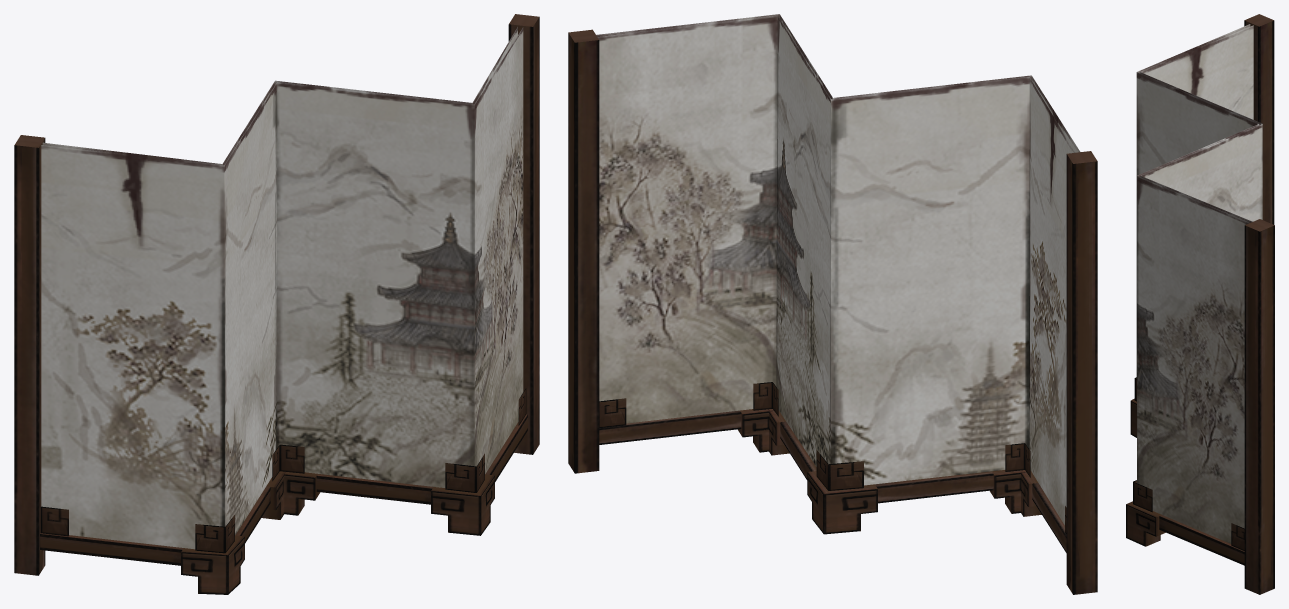
File: PRP_ScreenFolding.FBX
3 renders of one model, left to right at view 1: azimuth 30°, elevation 25°; view 2: azimuth 150°, elevation 25°; view 3: azimuth 270°, elevation 25°, orthographic. The views are drawn at different scales.
Visible parts, largest first — view 1: PRP_ScreenFolding; view 2: PRP_ScreenFolding; view 3: PRP_ScreenFolding.
Boxes of the visible parts, x1,y1,x2,y2 form: PRP_ScreenFolding: (14,14,539,594); PRP_ScreenFolding: (568,14,1097,594); PRP_ScreenFolding: (1126,14,1274,594).
Size of the model in its own units: 360 by 280 by 104.
1 material, 1 textured.
